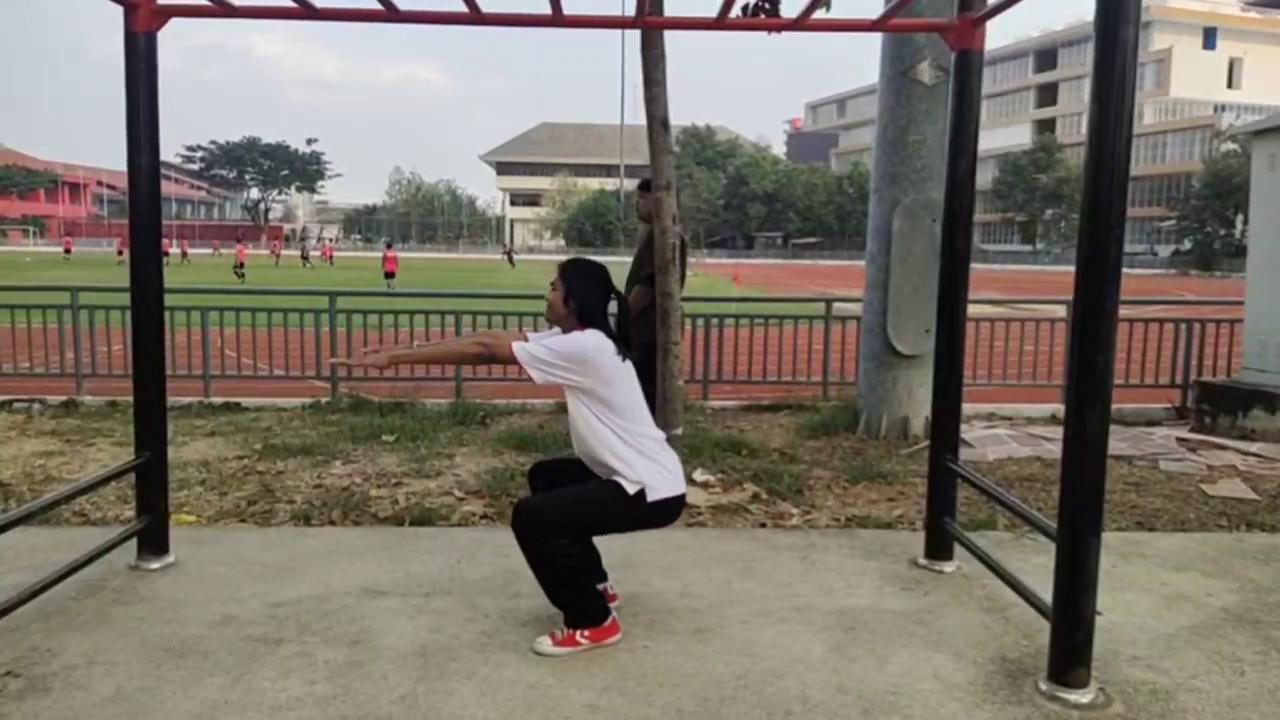squat down: (362, 258, 688, 657)
